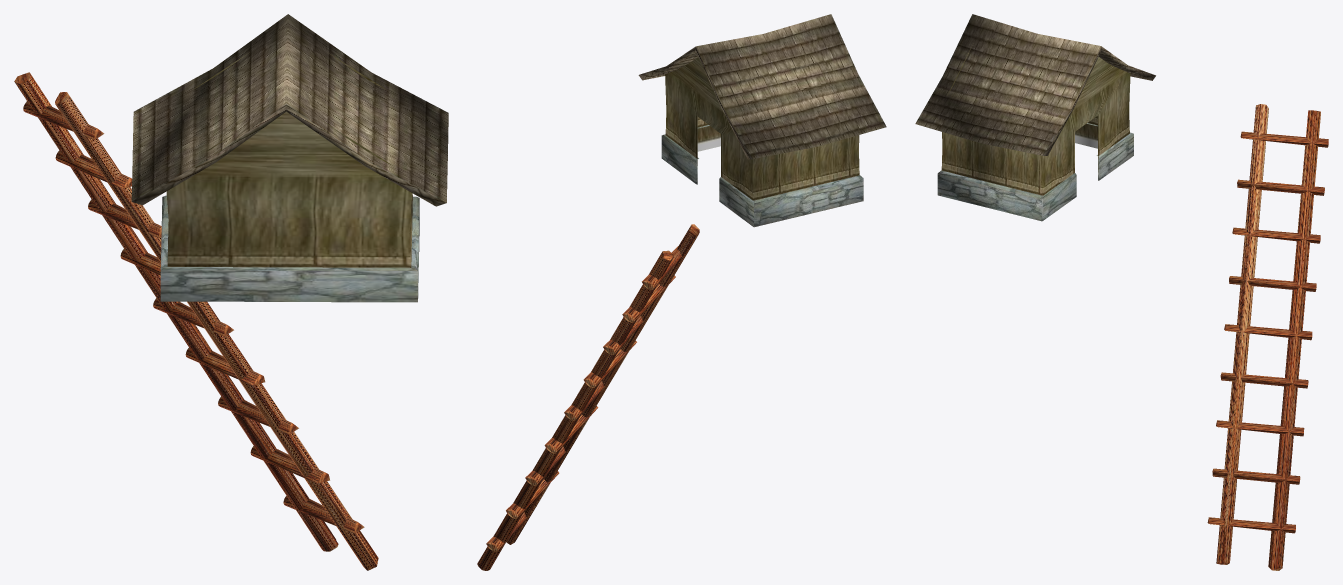
File: lom_model1.fbx
3 views of the same model, side by side, from view 1: azimuth 30°, elevation 25°; view 2: azimuth 150°, elevation 25°; view 3: azimuth 270°, elevation 25° (orthographic). The views are drawn at different scales.
Parts seen in each view (by area): view 1: chatka1, zebrik1; view 2: chatka1, zebrik1; view 3: chatka1, zebrik1.
Boxes of the visible parts, left/top/right/bottom form: chatka1: left=131, top=14, right=448, bottom=302; zebrik1: left=14, top=72, right=378, bottom=570; chatka1: left=638, top=14, right=886, bottom=227; zebrik1: left=477, top=224, right=699, bottom=570; chatka1: left=915, top=14, right=1155, bottom=221; zebrik1: left=1207, top=104, right=1328, bottom=570.
Size of the model in its own units: 102 by 168 by 134.
2 materials, 2 textured.
